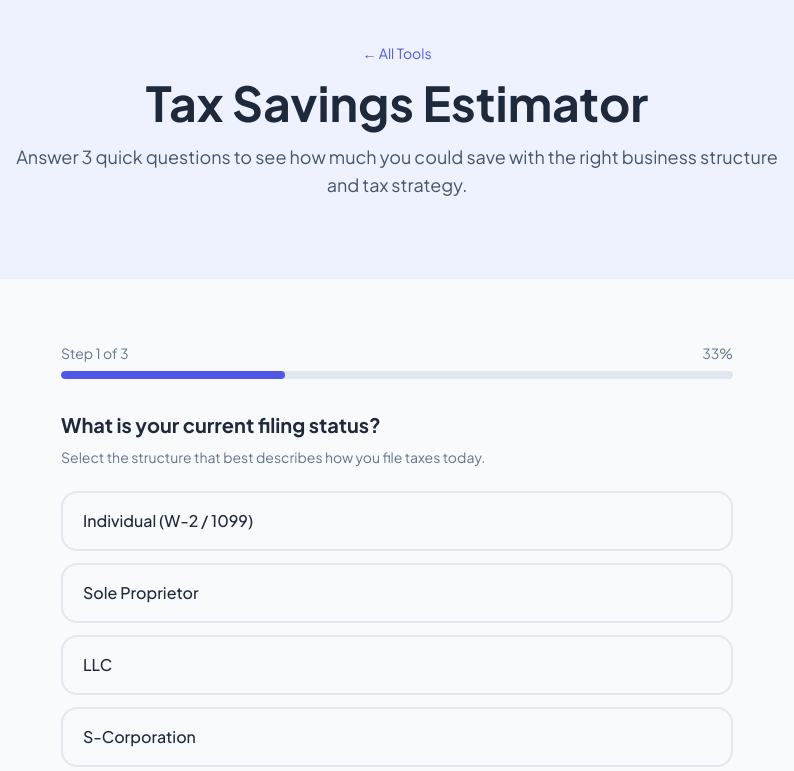
Scenario: TaxSavingsEstimator – back navigation › back button on step 2 returns to step 1
Click the button "LLC" at (98, 664), box x1=61 y1=635 x2=733 y2=695
(page scrolled)
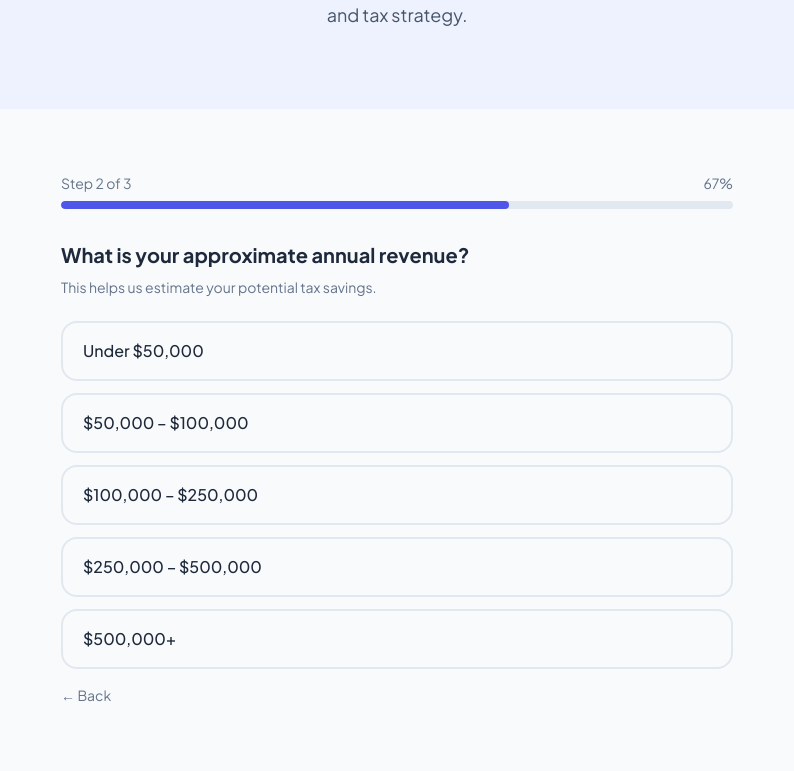
Expected: the heading "What is your approximate annual revenue?" is shown, x1=61 y1=242 x2=469 y2=267
Click the button "← Back" at (86, 695), box x1=61 y1=685 x2=111 y2=705
(page scrolled)
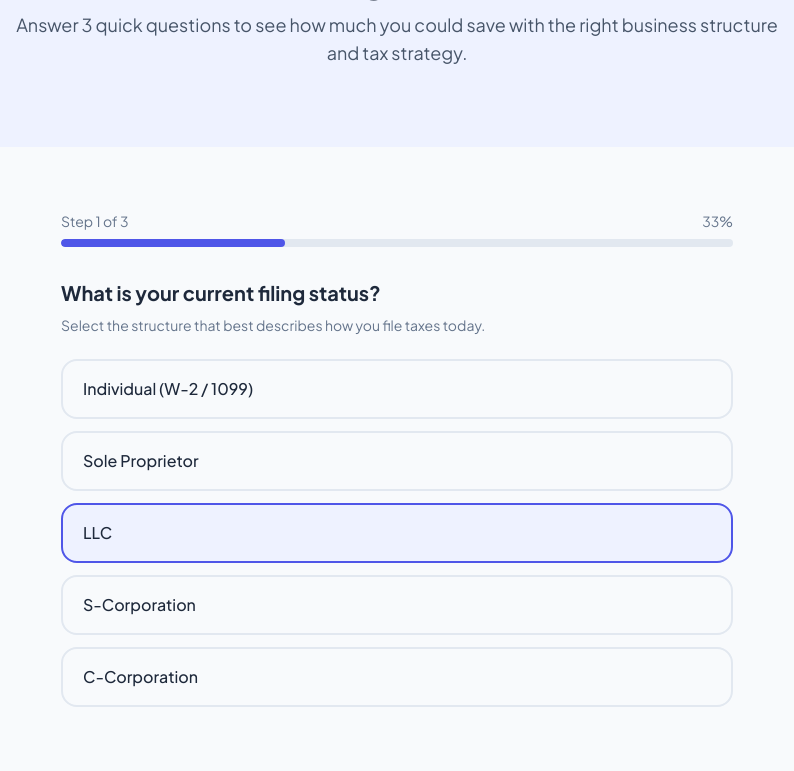
Expected: the heading "What is your current filing status?" is shown, x1=61 y1=280 x2=381 y2=305
